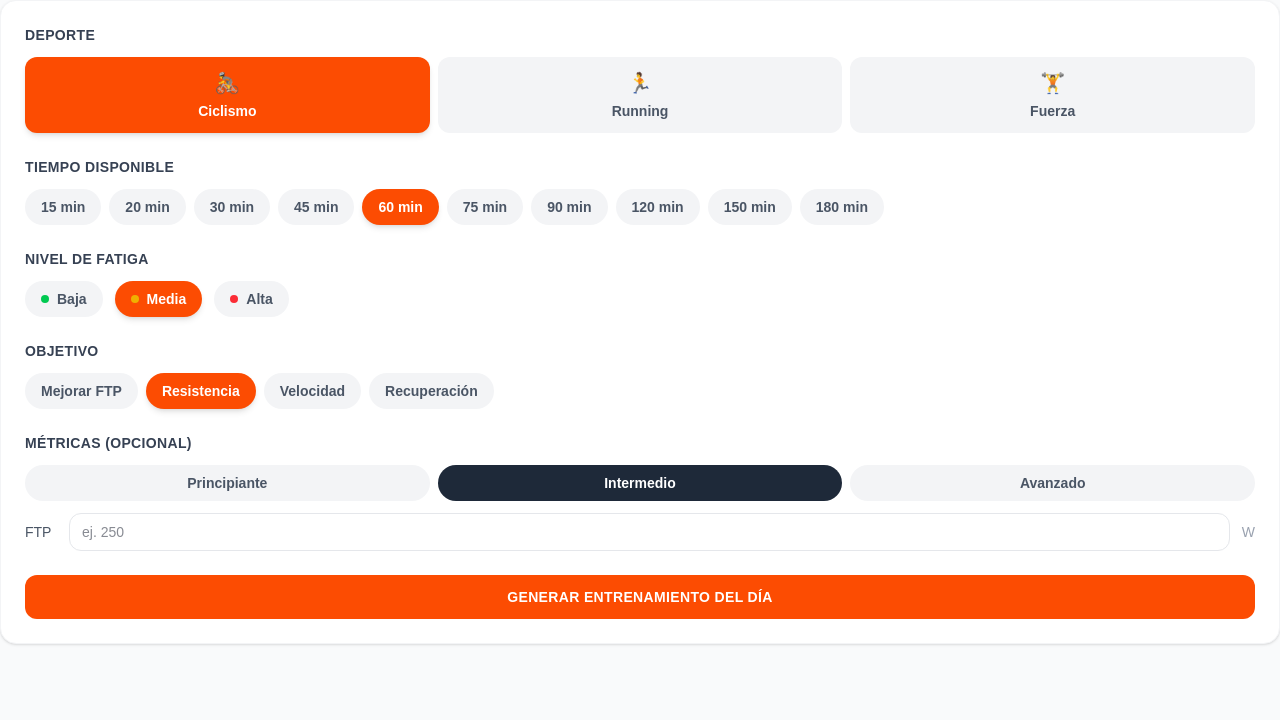
Test: WorkoutForm › sport switching › shows running goals when Running is selected
The image size is (1280, 720).
Click the button "🏃 Running": (640, 95) left=438, top=57, right=842, bottom=133
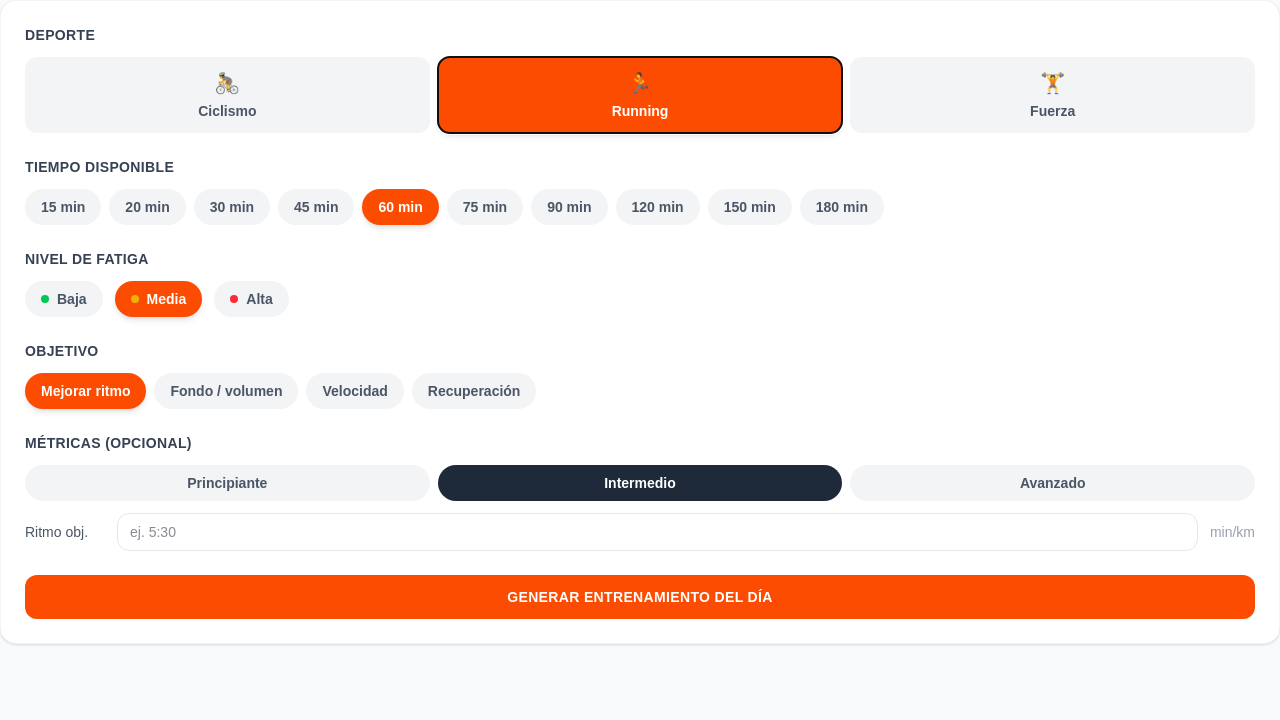
Expected: the button "Mejorar ritmo" is shown, left=25, top=373, right=146, bottom=409
Expected: the button "Mejorar FTP" is gone
